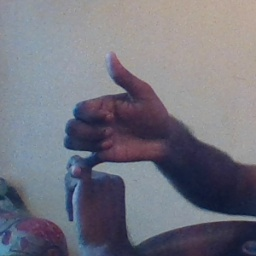S: (51, 46, 173, 228)
